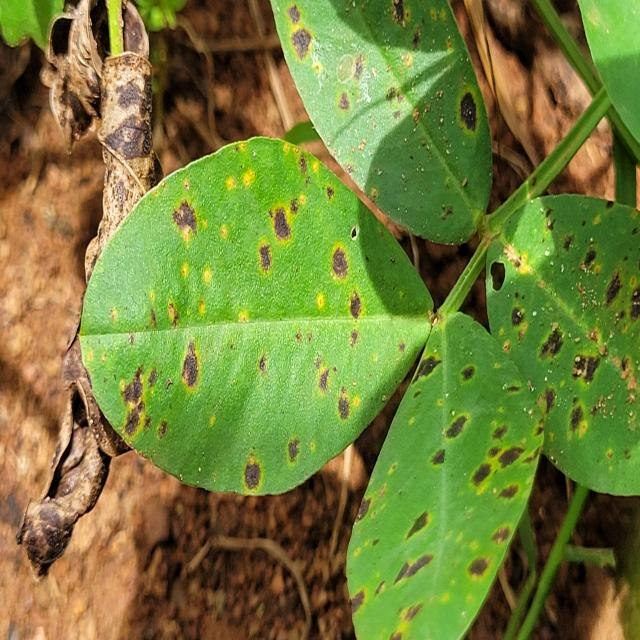Ground nut_tikka leaf spot: (80, 133, 437, 496), (347, 302, 545, 640), (272, 0, 496, 249), (485, 191, 640, 499)
